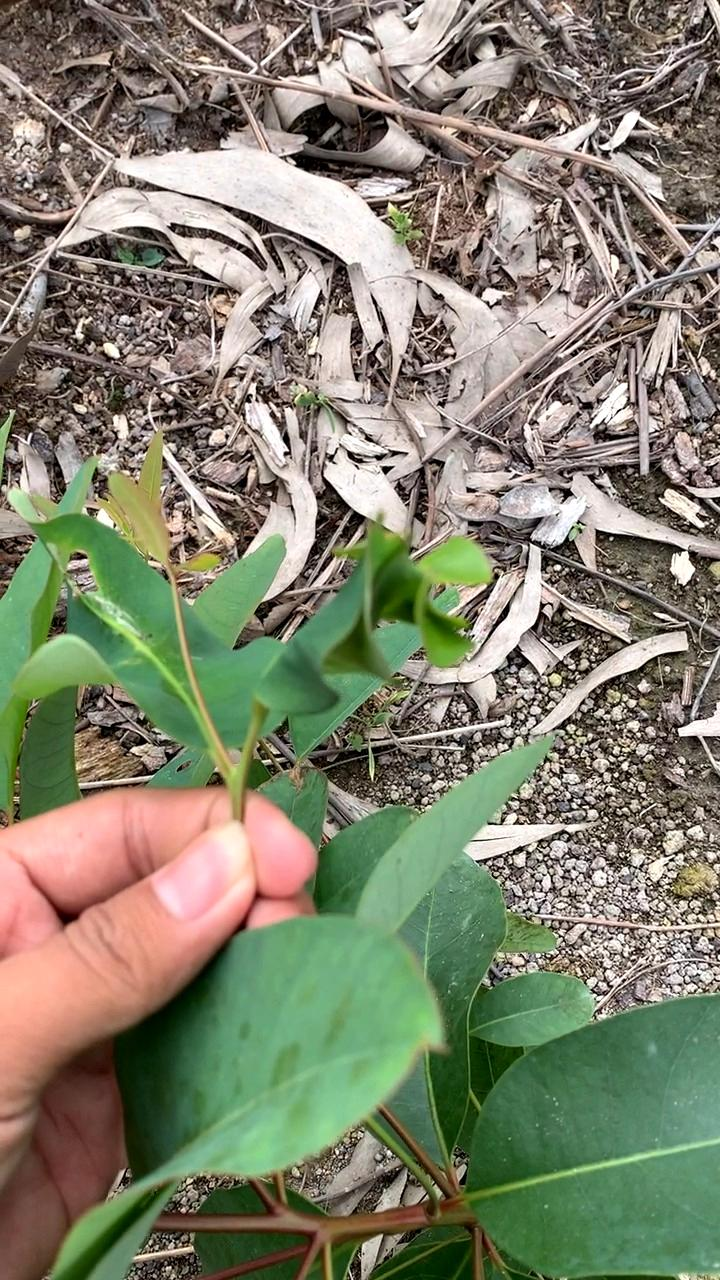Leaf Roller - Leaf: (249, 498, 515, 778)
